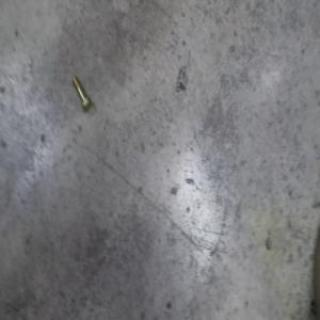Bolttrack_idkeyframe: (70, 73, 92, 111)
